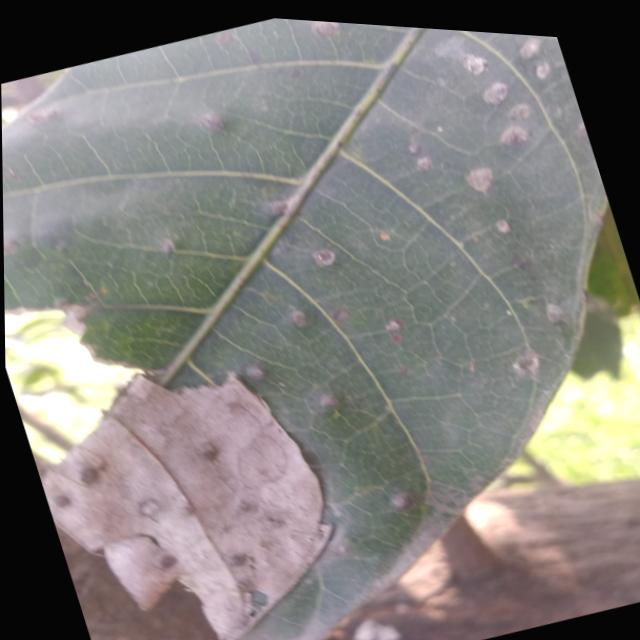Bacterial Cancer: (80, 383, 329, 628)
gall midge: (205, 226, 380, 399), (393, 125, 504, 232), (174, 85, 245, 160), (463, 65, 522, 116)
